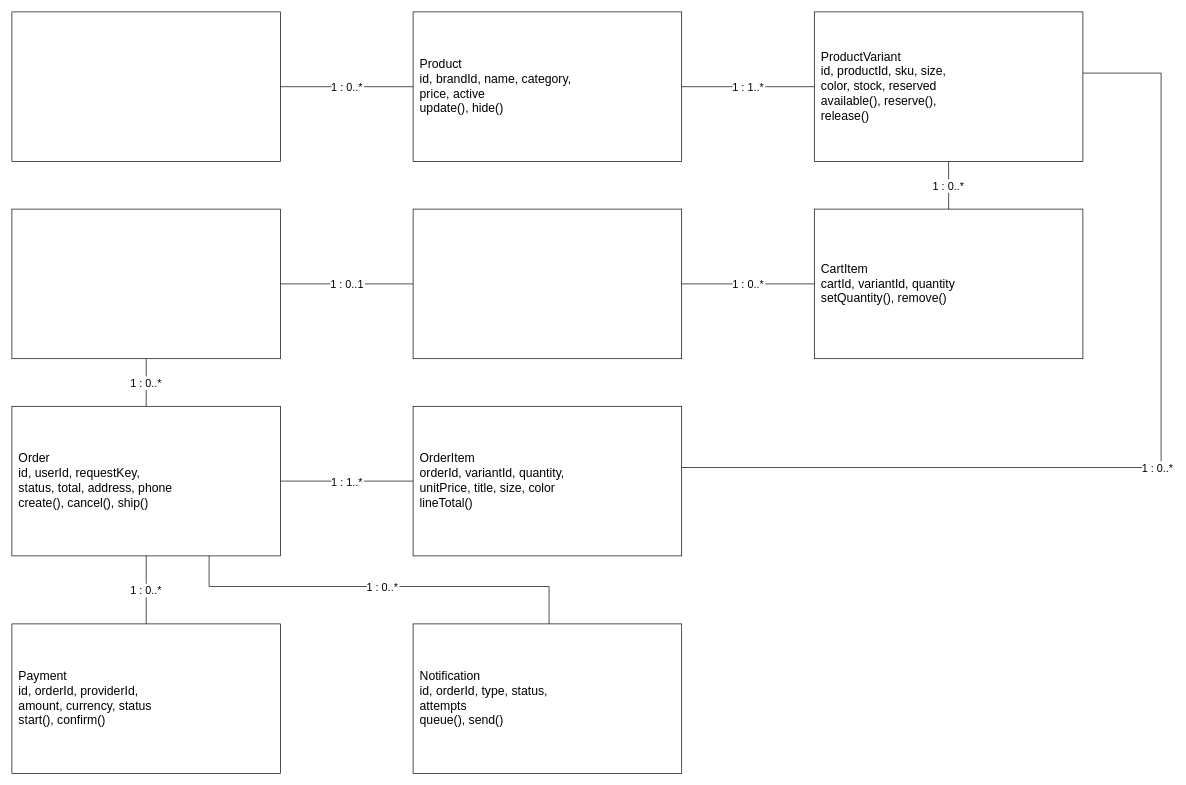
This 1186x785 diagram has some shape labels left out. The box of each missing label's shape, as (x1, y1, x2, y2) in pixels:
Brand id, name rename(): (11, 11, 280, 162)
Cart id, userId, sessionId calculateTotal(): (412, 208, 682, 359)
User id, email, passwordHash, role, blocked register(), login(), block(): (11, 208, 280, 359)
